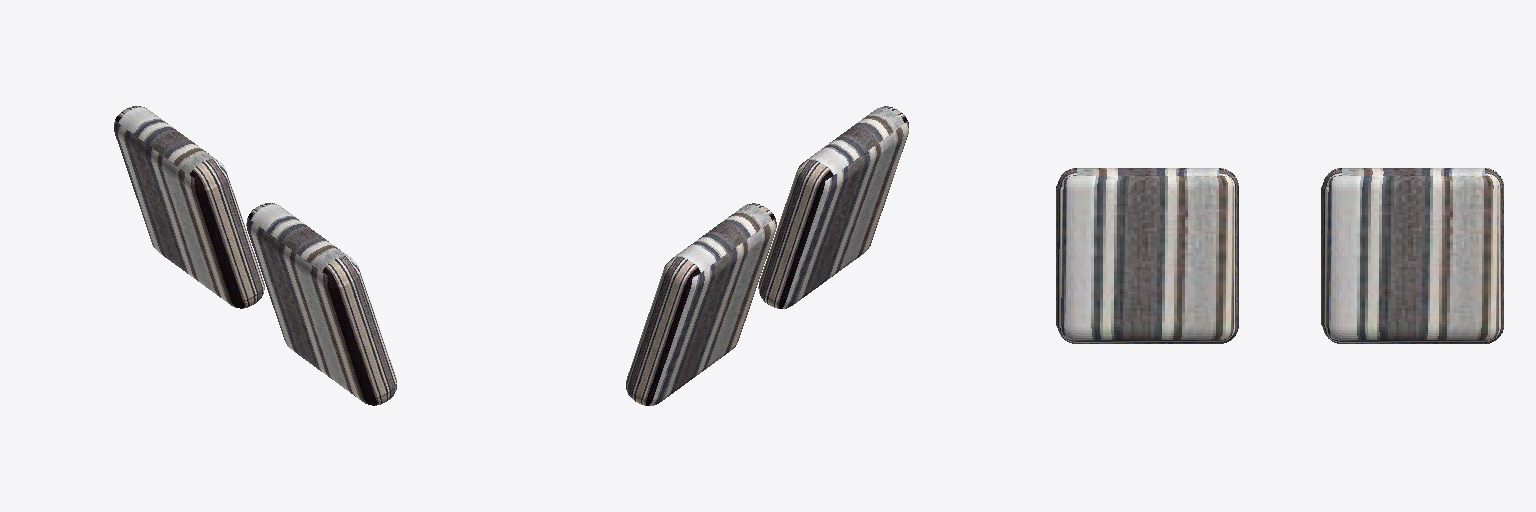
The picture shows the model from 3 angles: view 1: azimuth 30°, elevation 25°; view 2: azimuth 150°, elevation 25°; view 3: azimuth 270°, elevation 25°; orthographic projection.
Visible parts, largest first — view 1: polySurface17, cojinRespaldo1:polySurface17; view 2: polySurface17, cojinRespaldo1:polySurface17; view 3: cojinRespaldo1:polySurface17, polySurface17.
Boxes of the visible parts, x1,y1,x2,y2 form: polySurface17: [114, 106, 264, 308]; cojinRespaldo1:polySurface17: [246, 203, 396, 405]; polySurface17: [626, 203, 776, 405]; cojinRespaldo1:polySurface17: [758, 106, 908, 308]; cojinRespaldo1:polySurface17: [1056, 168, 1238, 343]; polySurface17: [1321, 168, 1503, 343].
Size of the model in its own units: 1.08 by 2.16 by 5.65.
Materials: 1 (1 with a texture image).